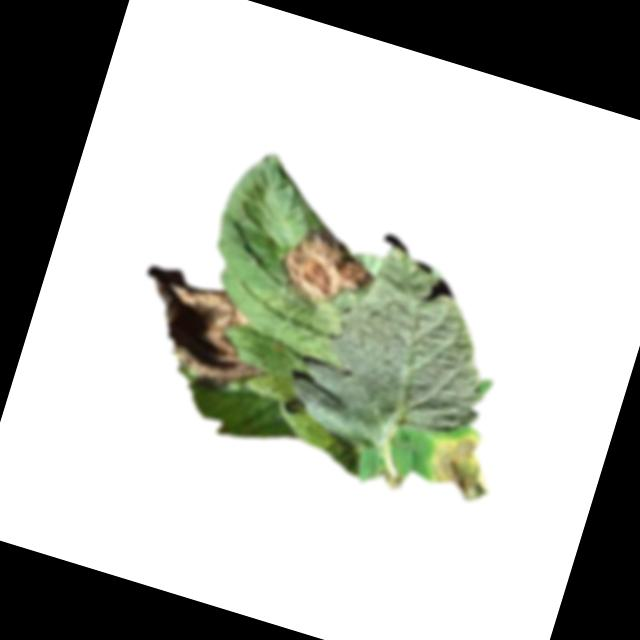Late_blight: (121, 261, 288, 401), (272, 217, 384, 319), (421, 423, 508, 508), (366, 463, 407, 495)
healthy: (280, 220, 523, 478)
